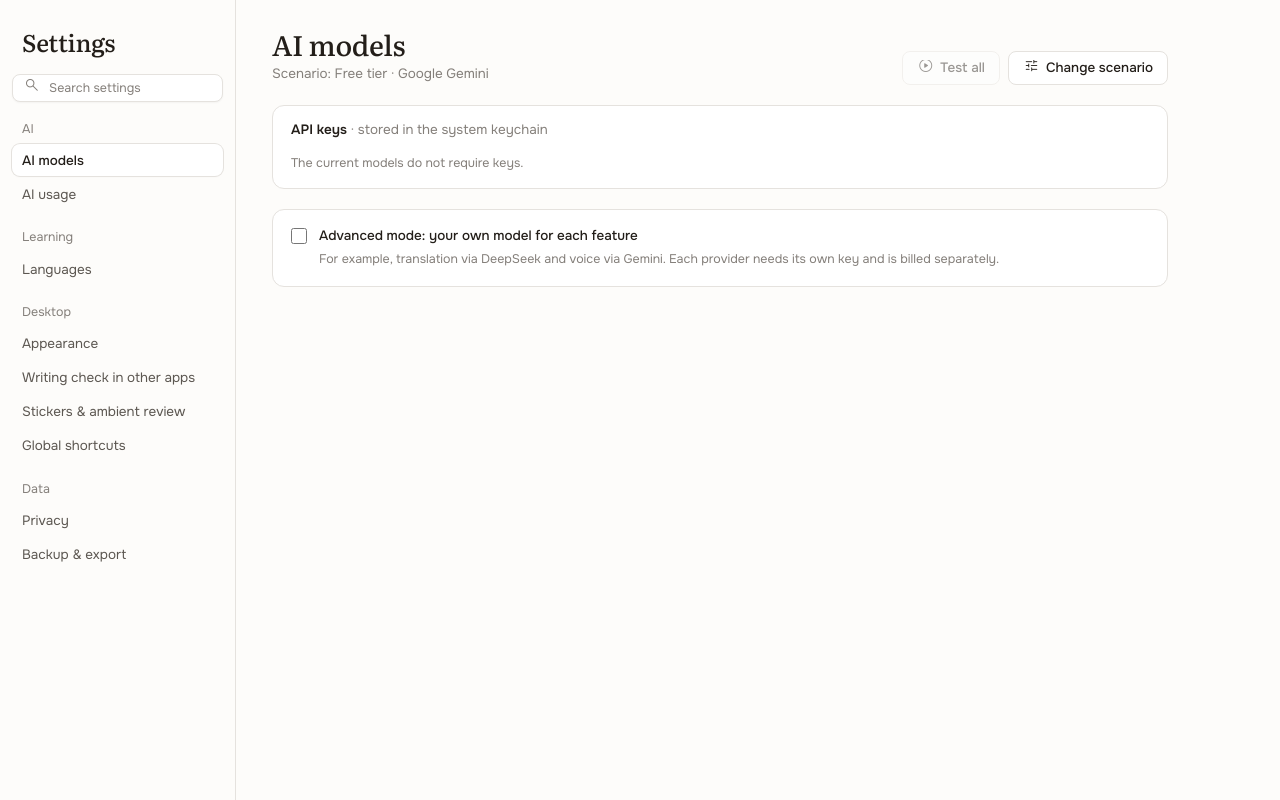
it: SettingsPage › opens AI models first and switches to the chosen section only
Expected: the heading "AI models" is shown, [272,23,405,65]
Expected: the element "Learning" is shown, [12,228,223,285]
Click the button "Privacy" at (118, 521), box [12,505,223,537]
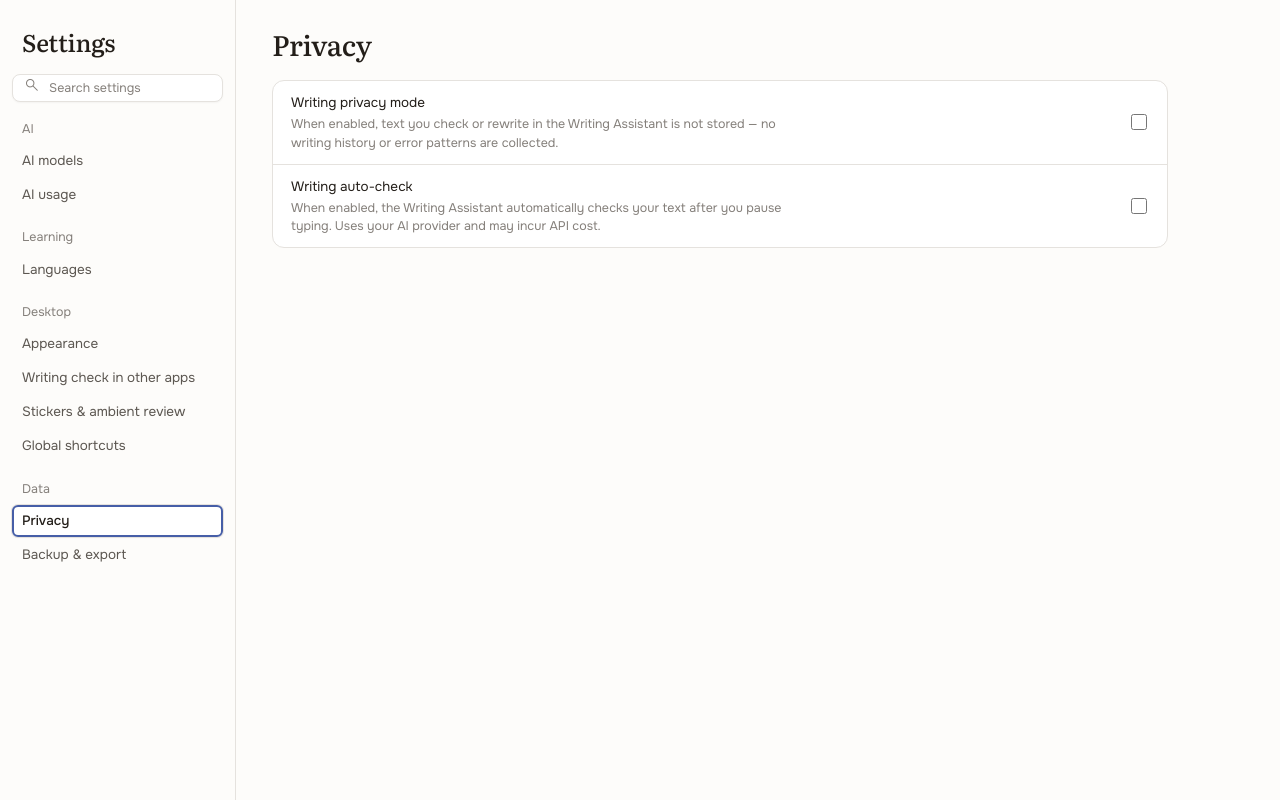
Now the heading "Privacy" is shown, box [272,23,372,65]
